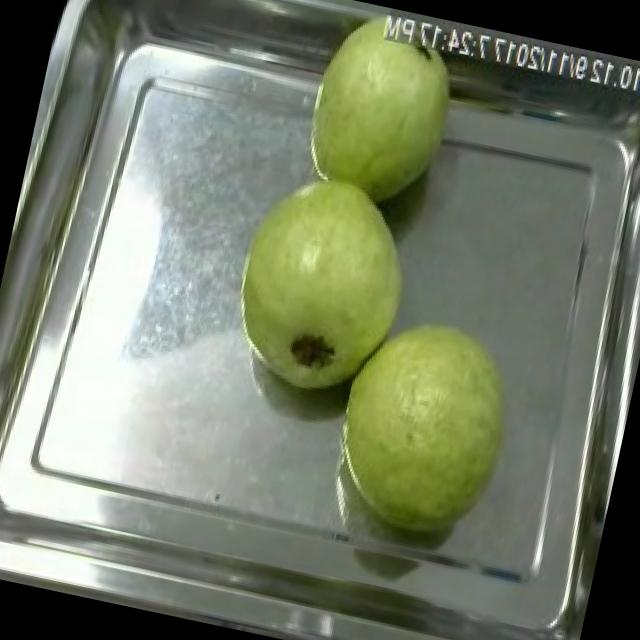Fruit: (311, 295, 534, 553), (211, 160, 434, 416), (288, 4, 472, 215)
